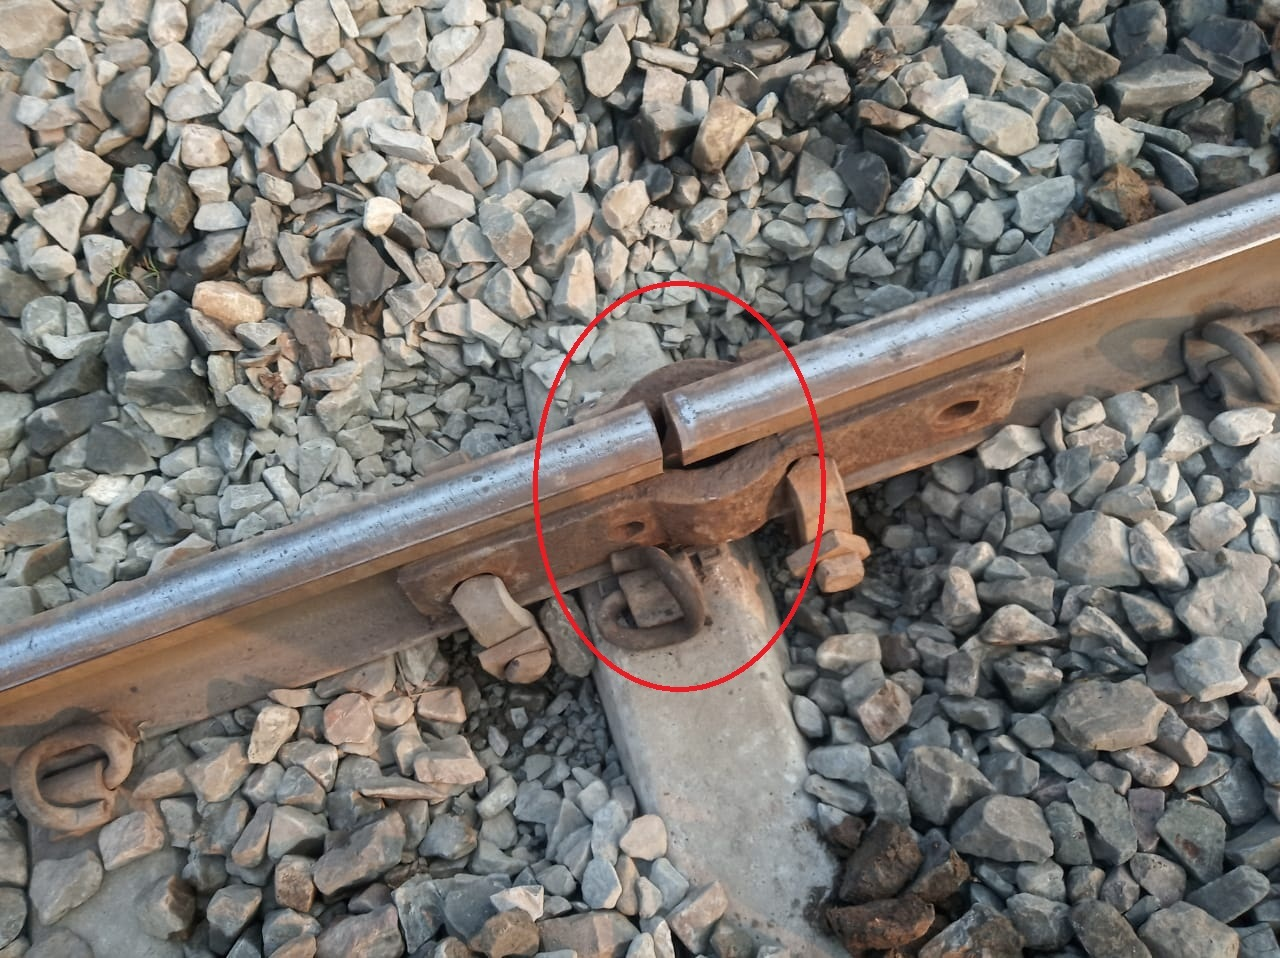crack: (580, 377, 772, 570)
track: (129, 453, 429, 751)
